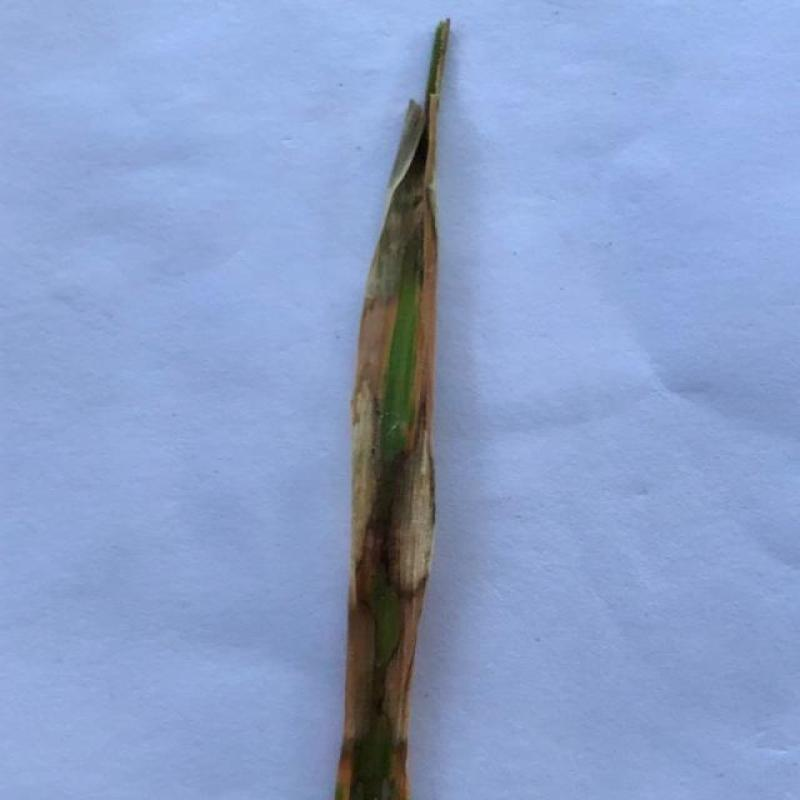Bacterial_Leaf_Blight: (334, 22, 449, 800)
